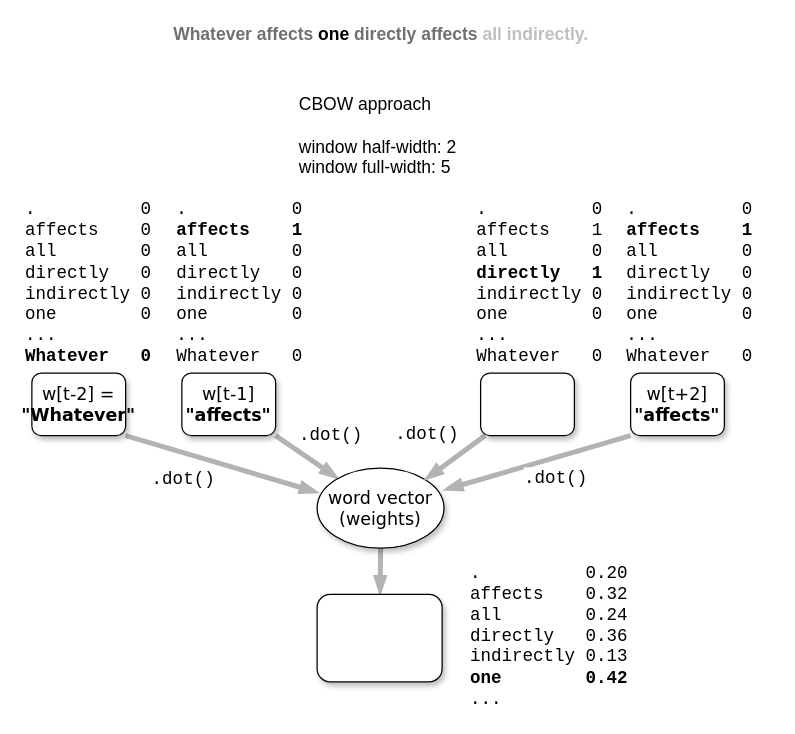
Some shapes in this 795 by 734 pixel diagram are drawn without their labels. The centre of each missing label's shape, as x and y in pixels:
skipped token w[t] = "one": (x=380, y=639)
w[t+1] = "directly": (x=528, y=405)
